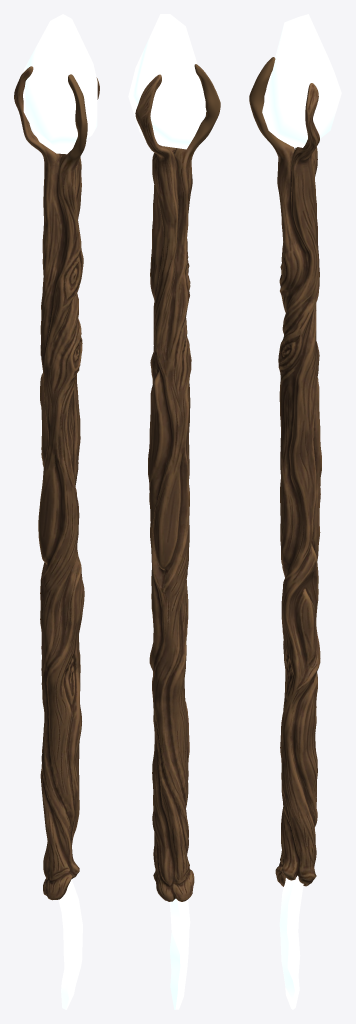
File: apprentice-shard-staff.glb
The picture shows the model from 3 angles, left to right: view 1: azimuth 90°, elevation 25°; view 2: azimuth 150°, elevation 25°; view 3: azimuth 330°, elevation 25°; orthographic projection.
Visible parts, largest first — view 1: Mango_low, Piedra_arriba_low, Piedra_abajo_low; view 2: Mango_low, Piedra_arriba_low, Piedra_abajo_low; view 3: Mango_low, Piedra_arriba_low, Piedra_abajo_low.
Boxes of the visible parts, x1,y1,x2,y2 form: Mango_low: (14, 66, 99, 900); Piedra_arriba_low: (23, 14, 97, 154); Piedra_abajo_low: (58, 879, 82, 1009); Mango_low: (135, 64, 220, 901); Piedra_arriba_low: (128, 14, 206, 149); Piedra_abajo_low: (169, 898, 190, 1009); Mango_low: (249, 57, 321, 886); Piedra_arriba_low: (262, 14, 341, 147); Piedra_abajo_low: (279, 875, 303, 1009).
Size of the model in its own units: 0.1321 by 1.69 by 0.1332.
Materials: 2 (1 with a texture image).
